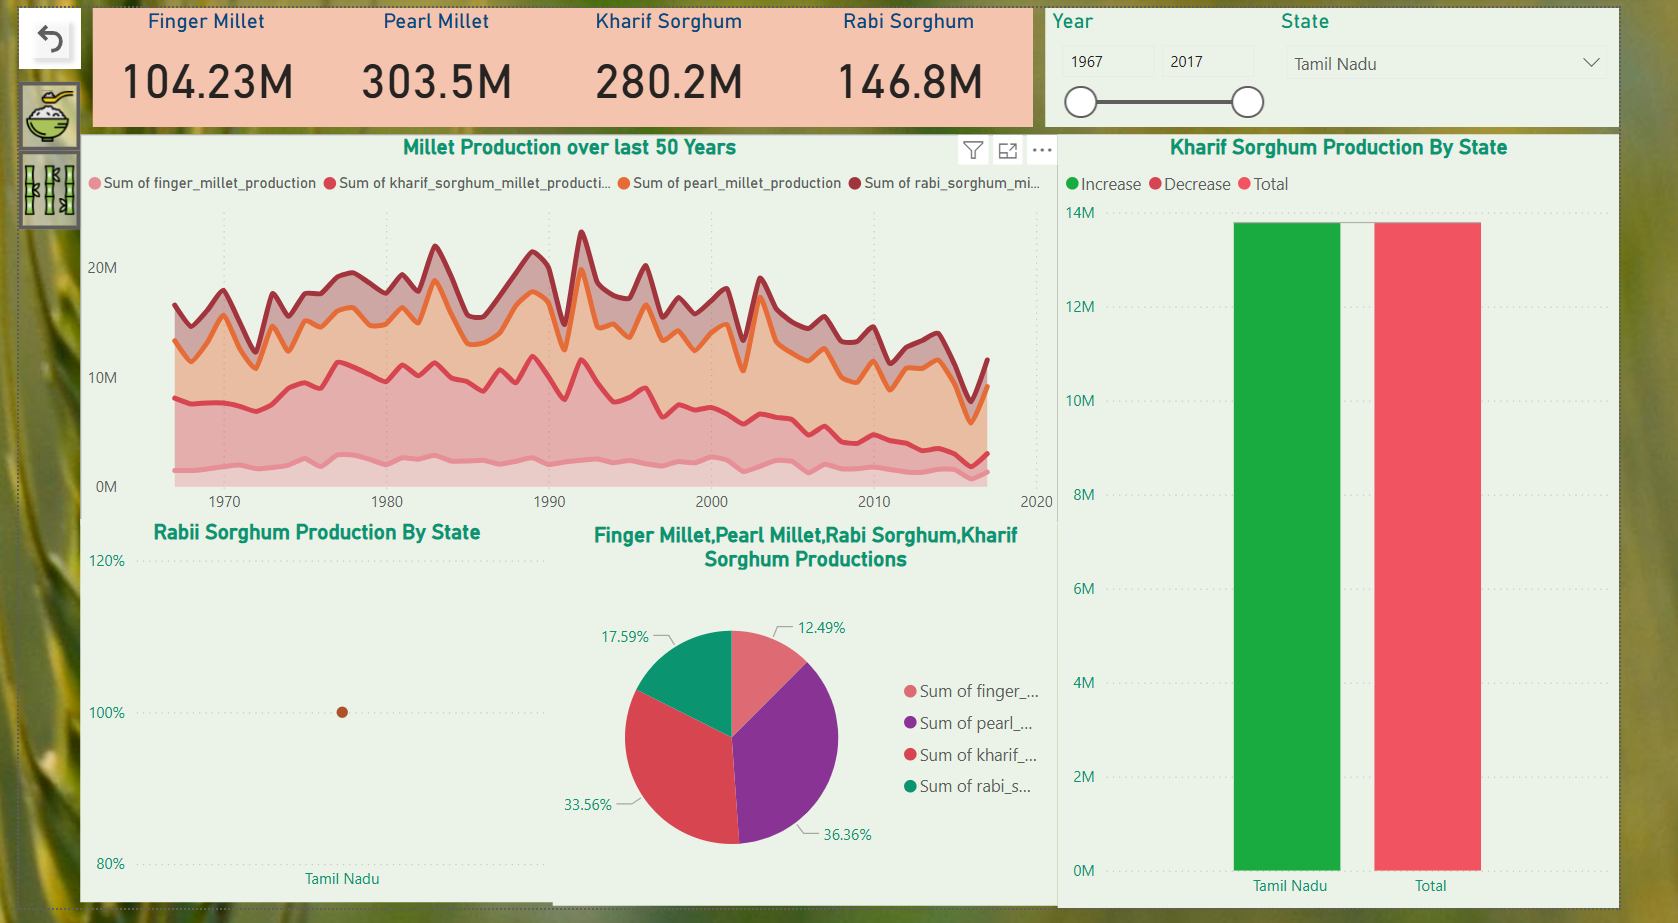

The page's visual inventory and layout, read from the dashboard file:
{"tool":"powerbi","page":{"name":"MILLETS","canvas":[1280,720],"ordinal":1},"visuals":[{"type":"stackedAreaChart","title":"Millet Production over last 50 Years","fields":{"Category":["Millet production (last 50 years).year"],"Y":["Sum(Millet production (last 50 years).finger_millet_production)","Sum(Millet production (last 50 years).kharif_sorghum_millet_production)","Sum(Millet production (last 50 years).pearl_millet_production)","Sum(Millet production (last 50 years).rabi_sorghum_millet_production)"]},"box":[80.3,100.7,771.8,312.8],"z":0},{"type":"actionButton","box":[0,0,49,49],"z":1000},{"type":"card","title":"Pearl Millet Production","fields":{"Values":["Sum(Millet production (last 50 years).pearl_millet_production)"]},"box":[347.6,3.6,263.7,89.9],"z":2000},{"type":"card","title":"Finger Millet Production","fields":{"Values":["Sum(Millet production (last 50 years).finger_millet_production)"]},"box":[80.3,0,237.3,94.7],"z":3000},{"type":"card","title":"Rabi Sorghum Production","fields":{"Values":["Sum(Millet production (last 50 years).rabi_sorghum_millet_production)"]},"box":[985.2,4.8,279.3,89.9],"z":4000},{"type":"card","title":"Kharif Sorghum Production","fields":{"Values":["Sum(Millet production (last 50 years).kharif_sorghum_millet_production)"]},"box":[650.8,3.6,290,89.9],"z":5000},{"type":"waterfallChart","title":"Kharif Sorghum Production By State","fields":{"Category":["Sorghum Production (Kharif and Rabi) by Region.state"],"Y":["Sum(Sorghum Production (Kharif and Rabi) by Region.kharif_sorghum_millet_production)"]},"box":[862,100.4,418.2,618.1],"z":6000},{"type":"hundredPercentStackedAreaChart","title":"Rabii Sorghum Production By State","fields":{"Category":["Sorghum Production (Kharif and Rabi) by Region.state"],"Y":["Sum(Sorghum Production (Kharif and Rabi) by Region.rabi_sorghum_millet_production)"]},"box":[80.3,421.9,367.9,297.2],"z":7000},{"type":"pieChart","title":"Finger Millet,Pearl Millet,Rabi Sorghum,Kharif Sorghum Productions","fields":{"Y":["Sum(Millet production (last 50 years).finger_millet_production)","Sum(Millet production (last 50 years).pearl_millet_production)","Sum(Millet production (last 50 years).kharif_sorghum_millet_production)","Sum(Millet production (last 50 years).rabi_sorghum_millet_production)"]},"box":[458.2,422.3,393.6,297.2],"z":8000},{"type":"actionButton","box":[0,527.9,62.5,70.7],"z":9001},{"type":"actionButton","box":[0,639.6,62.5,78.9],"z":9002}]}

Visuals, with their boxes on the page's 1280x720 design canvas (x1, y1, x2, y2). These are canvas units, not pixel positions in the 1678x923 screenshot, which may show the page scaled, cropped or inside an application window:
"Millet Production over last 50 Years" stackedAreaChart: bbox=[80, 101, 852, 414]
actionButton: bbox=[0, 0, 49, 49]
"Pearl Millet Production" card: bbox=[348, 4, 611, 94]
"Finger Millet Production" card: bbox=[80, 0, 318, 95]
"Rabi Sorghum Production" card: bbox=[985, 5, 1264, 95]
"Kharif Sorghum Production" card: bbox=[651, 4, 941, 94]
"Kharif Sorghum Production By State" waterfallChart: bbox=[862, 100, 1280, 718]
"Rabii Sorghum Production By State" hundredPercentStackedAreaChart: bbox=[80, 422, 448, 719]
"Finger Millet,Pearl Millet,Rabi Sorghum,Kharif Sorghum Productions" pieChart: bbox=[458, 422, 852, 720]
actionButton: bbox=[0, 528, 62, 599]
actionButton: bbox=[0, 640, 62, 718]
